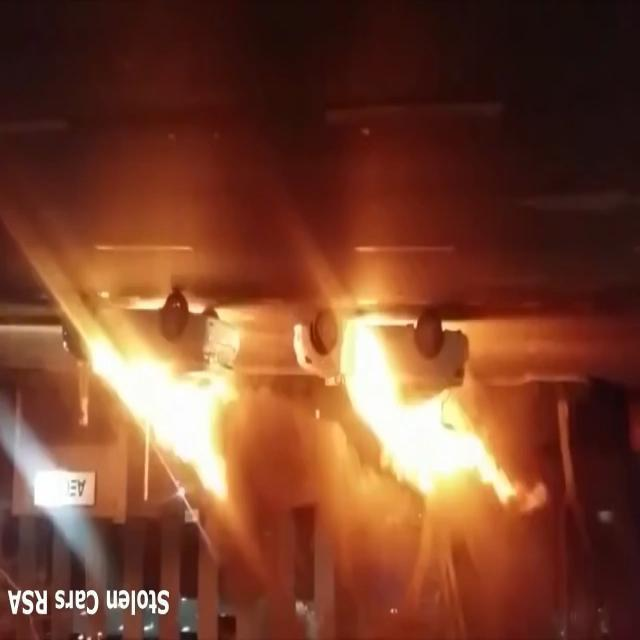fire: (341, 328, 511, 506), (98, 333, 231, 489)
